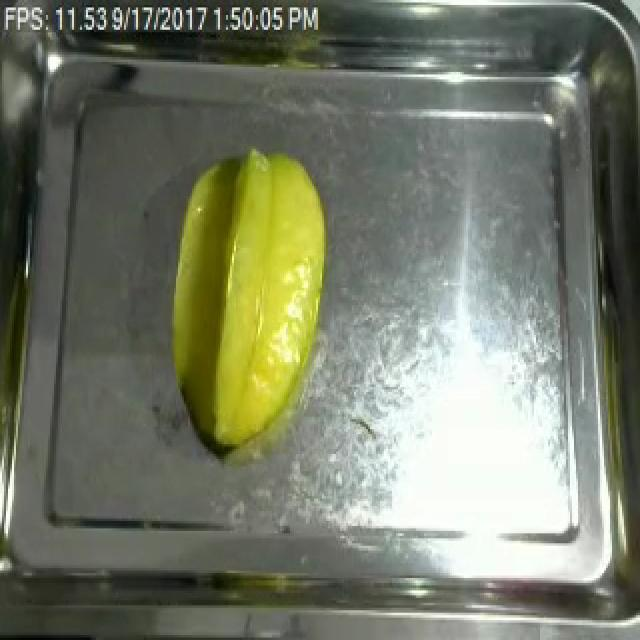fruit: (152, 136, 338, 464)
